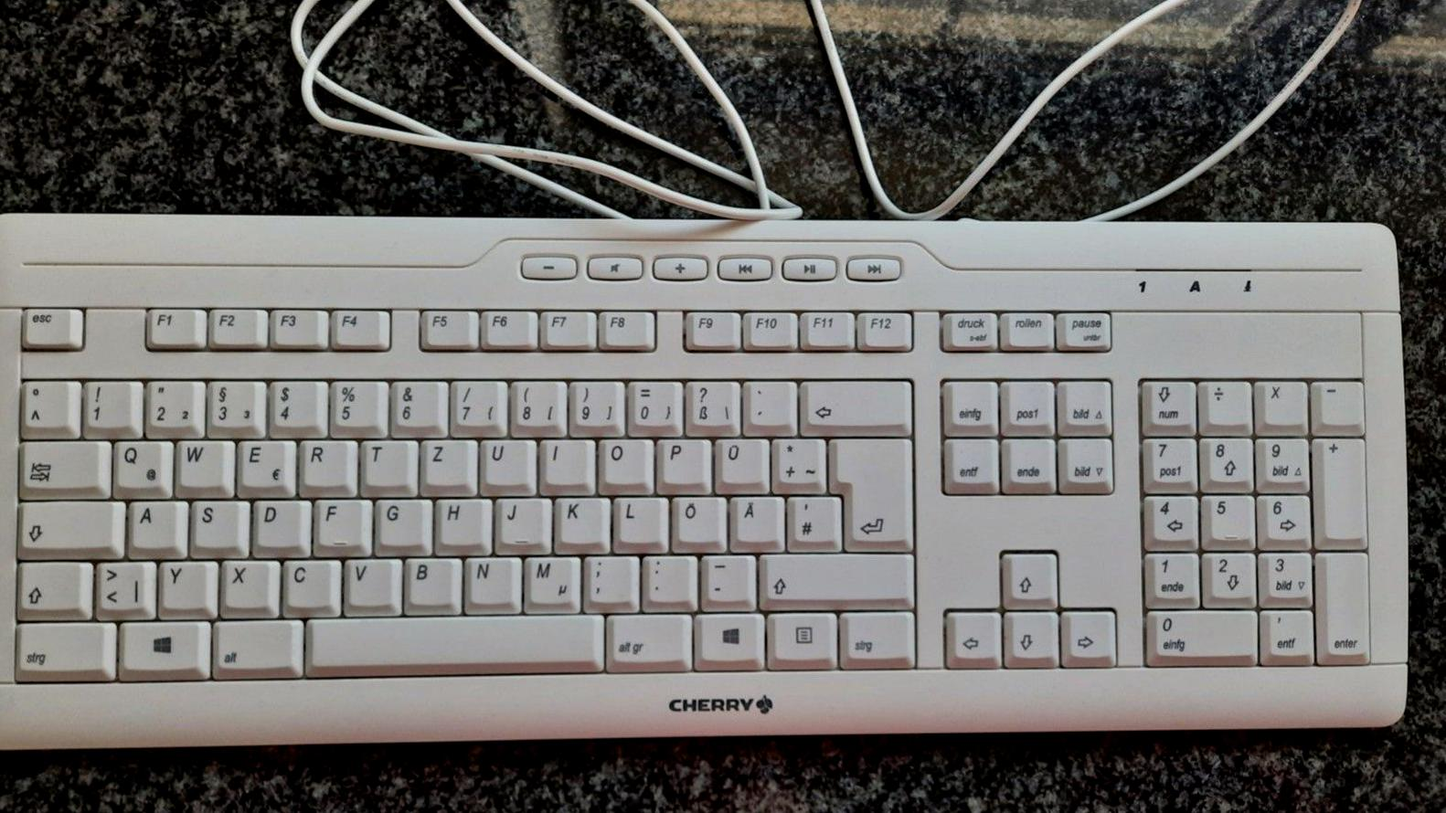0: (627, 377, 681, 431)
1: (84, 378, 140, 431)
2: (144, 378, 204, 433)
3: (206, 378, 264, 433)
4: (269, 378, 324, 431)
5: (328, 378, 386, 432)
6: (389, 377, 447, 432)
7: (450, 378, 505, 429)
8: (510, 377, 565, 430)
9: (569, 377, 623, 431)
a: (129, 498, 183, 551)
accent: (742, 377, 793, 428)
ae: (730, 492, 781, 544)
alt-left: (209, 619, 302, 674)
altgr-right: (609, 612, 694, 668)
b: (404, 554, 459, 607)
c: (282, 556, 337, 609)
caret: (19, 378, 78, 430)
comma: (583, 553, 635, 605)
d: (253, 497, 306, 550)
del: (802, 376, 911, 428)
e: (238, 437, 292, 491)
enter: (828, 431, 911, 544)
f: (314, 496, 367, 548)
g: (374, 496, 427, 547)
h: (435, 496, 489, 547)
hash: (786, 492, 839, 546)
i: (541, 437, 590, 486)
j: (495, 495, 548, 547)
k: (556, 494, 607, 545)
keyboard: (1, 211, 1410, 753)
l: (613, 493, 665, 545)
less: (95, 558, 153, 613)
m: (524, 553, 578, 606)
minus: (699, 552, 754, 605)
n: (464, 554, 517, 606)
o: (598, 435, 649, 485)
oe: (672, 492, 723, 545)
p: (657, 436, 707, 485)
plus: (771, 434, 824, 486)
point: (642, 552, 695, 604)
q: (112, 437, 171, 493)
r: (299, 437, 352, 490)
s: (189, 497, 244, 550)
shift-left: (15, 558, 88, 614)
shift-lock: (17, 496, 121, 551)
shift-right: (761, 550, 911, 600)
space: (307, 612, 603, 671)
ss: (685, 377, 739, 431)
strg-left: (11, 618, 114, 674)
strg-right: (838, 607, 915, 663)
t: (362, 438, 411, 489)
tab: (16, 437, 103, 491)
u: (480, 436, 532, 487)
ue: (714, 434, 766, 486)
v: (346, 555, 396, 607)
w: (176, 437, 229, 489)
x: (221, 558, 276, 611)
y: (159, 559, 214, 611)
z: (421, 437, 472, 489)
